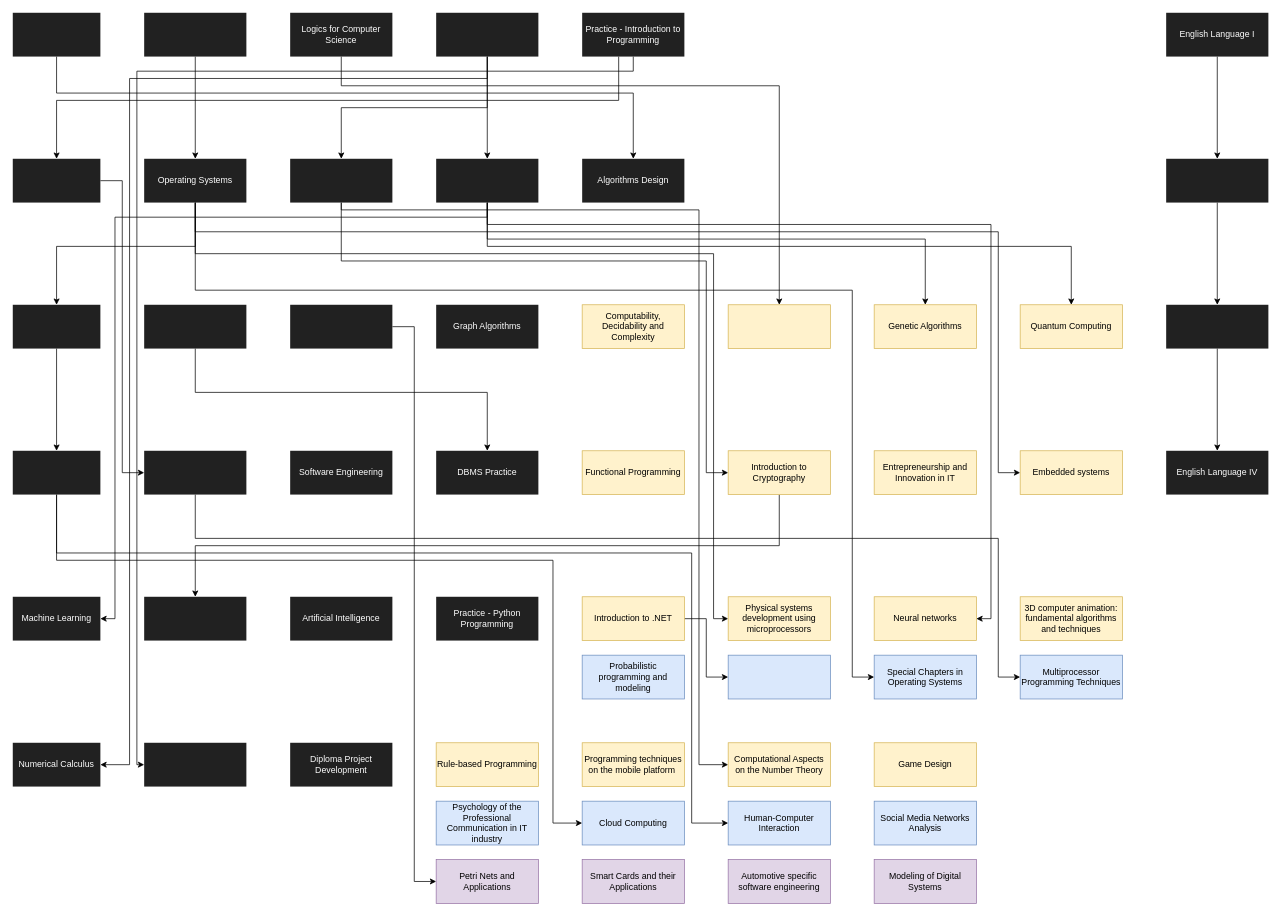
Image size: 1280x916. Some labels were removed from this diagram. The shapes that lost their labels are listed below. From the top down, each one's centre as x and y in pixels, then its label:
At [56,34]: "Data Structures".
At [195,34]: "Computer Architecture and Operating Systems".
At [487,34]: "Mathematics".
At [56,180]: "Object - Oriented Programming".
At [341,180]: "Algebraic Foundations of Computer Science".
At [487,180]: "Probabilities and Statistics".
At [1217,180]: "English Language II".
At [56,326]: "Computer Networks".
At [195,326]: "Databases".
At [341,326]: "Formal Languages, Automata and Compilers".
At [778,326]: "Principles of Programming Languages".
At [1217,326]: "English Language III".
At [56,472]: "WEB Technologies".
At [195,472]: "Advanced Programming".
At [195,618]: "Information Security".
At [778,676]: "Introduction to Mixed Reality".
At [195,764]: "Computer Graphics".
